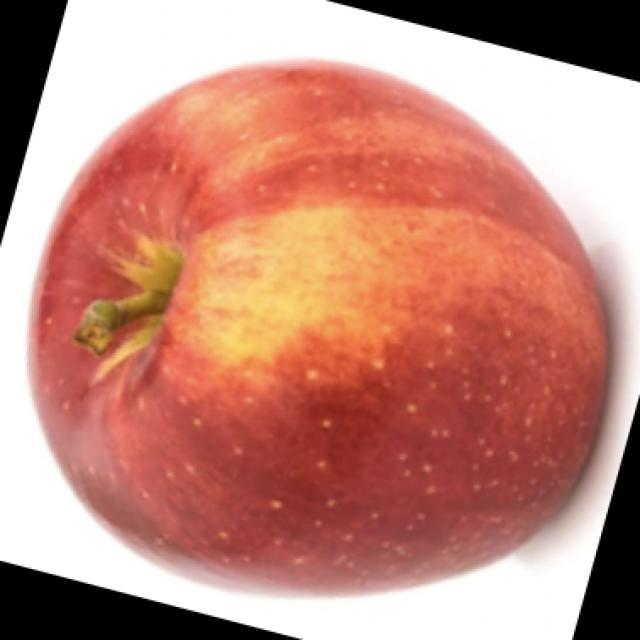Fresh Apple: (31, 70, 616, 640)
